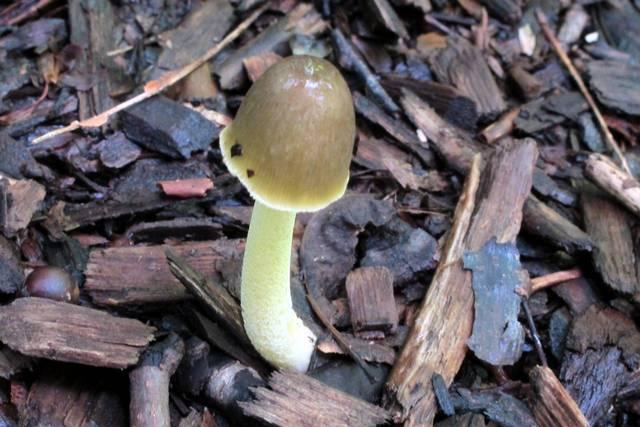edible_mushroom: (217, 53, 357, 374)
